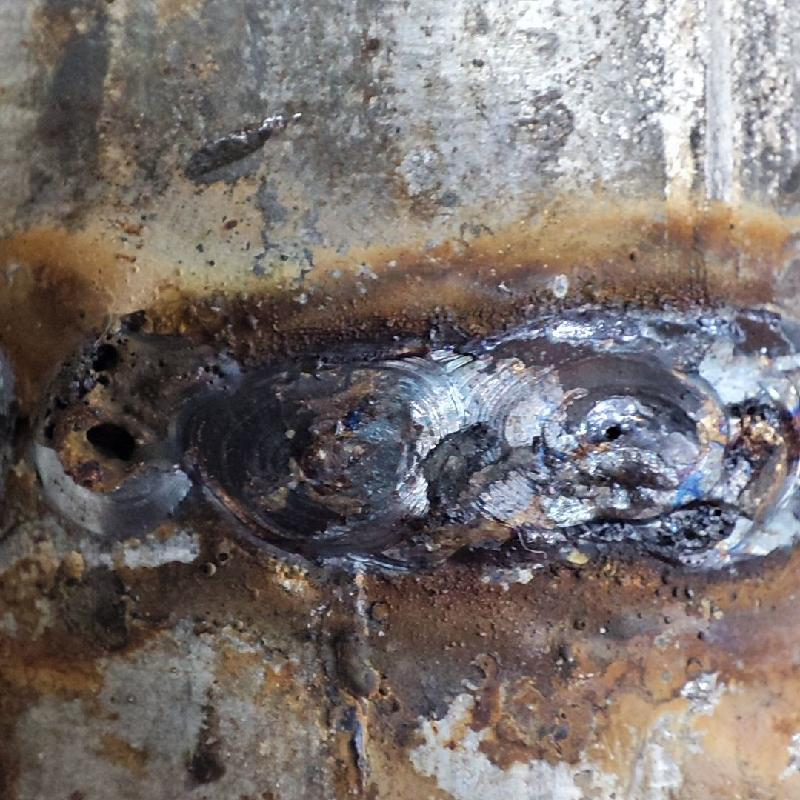Surface_pores: (75, 407, 153, 470), (600, 412, 637, 450)
crater: (483, 320, 799, 566)
wrong_size: (3, 327, 475, 559)
